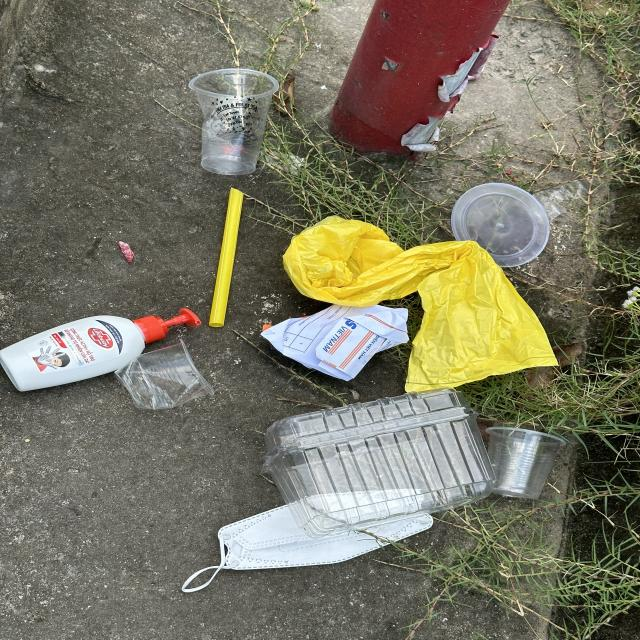bag: (282, 215, 560, 393)
bottle: (0, 306, 203, 392)
drinking straw: (208, 186, 245, 328)
lid: (449, 182, 551, 267)
mask: (181, 488, 435, 594)
paper: (260, 302, 410, 381)
plastic glass: (188, 67, 280, 176), (113, 338, 216, 410), (486, 427, 566, 500)
plastic holder: (260, 386, 492, 539)
